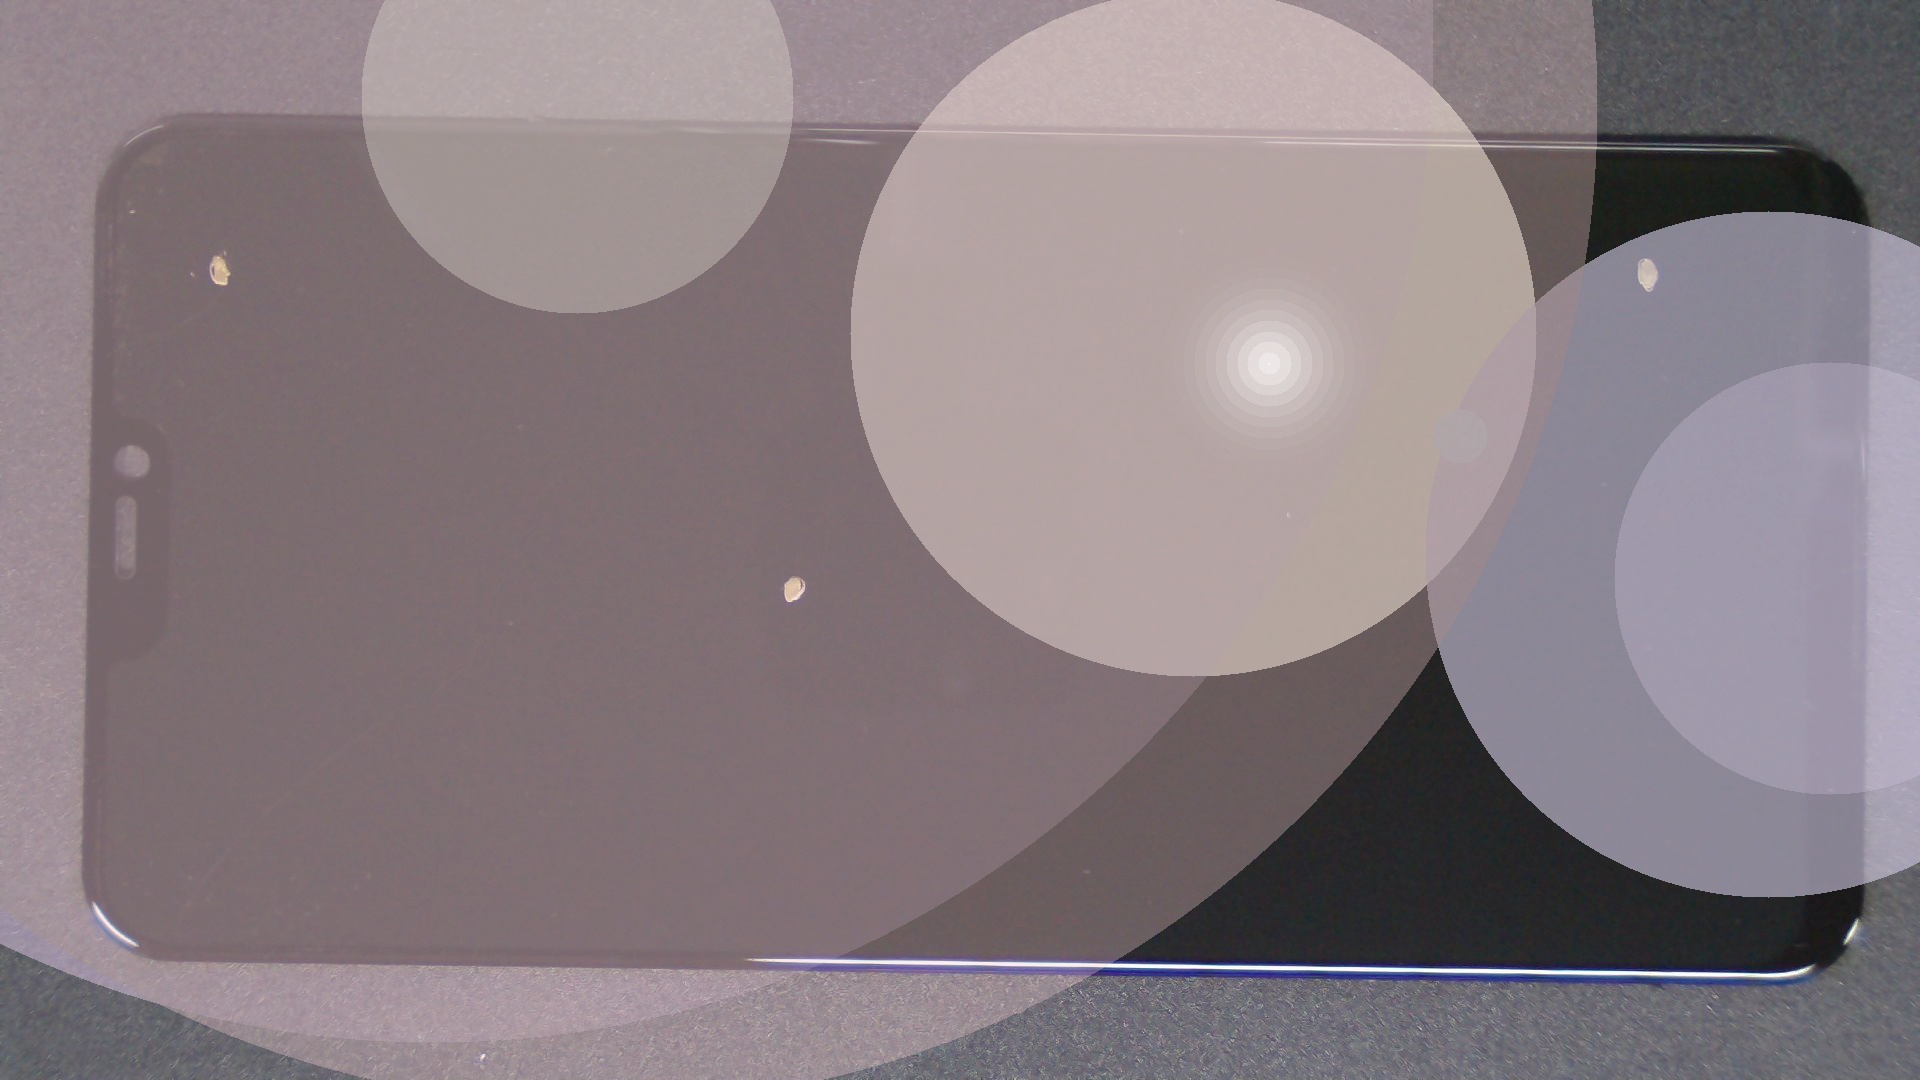oil: (400, 284, 1187, 862), (823, 127, 1920, 385), (108, 127, 322, 382)
